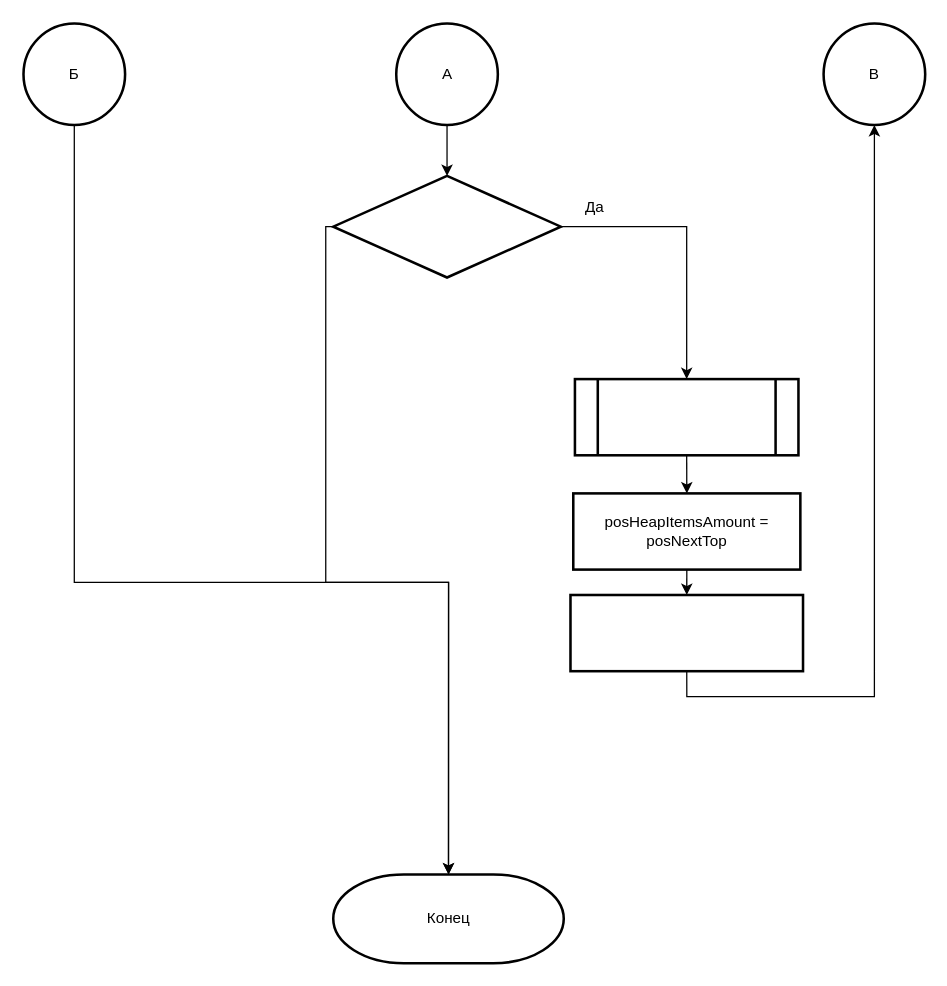
This 947x986 diagram has some shape labels left out. The centre of each missing label's shape, as x and y in pixels:
"arr[posCurNode] < arr[posMaxChild]" goes at (446,226).
"posCurNode = posMaxChild" goes at (686,632).
"swap(arr[posCurNode], arr[posMaxChild])" goes at (686,416).
